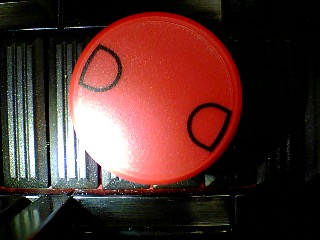MIPO2: (67, 11, 243, 185)
